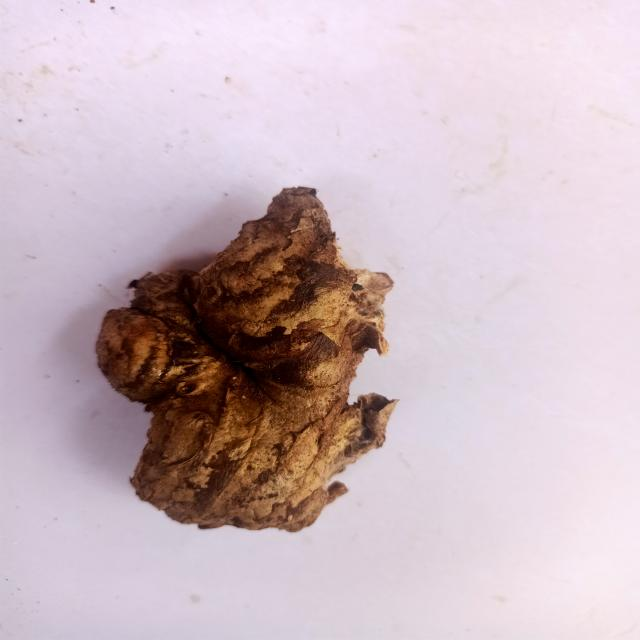Ginger: (86, 175, 409, 546)
